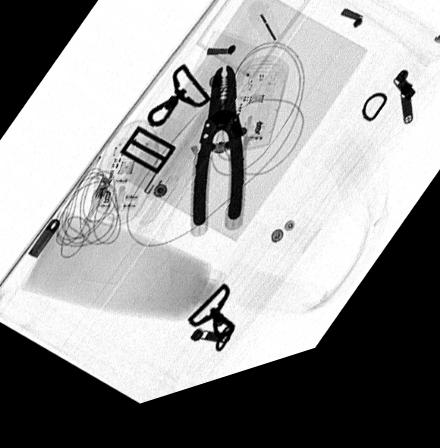Pliers: (190, 79, 245, 238)
